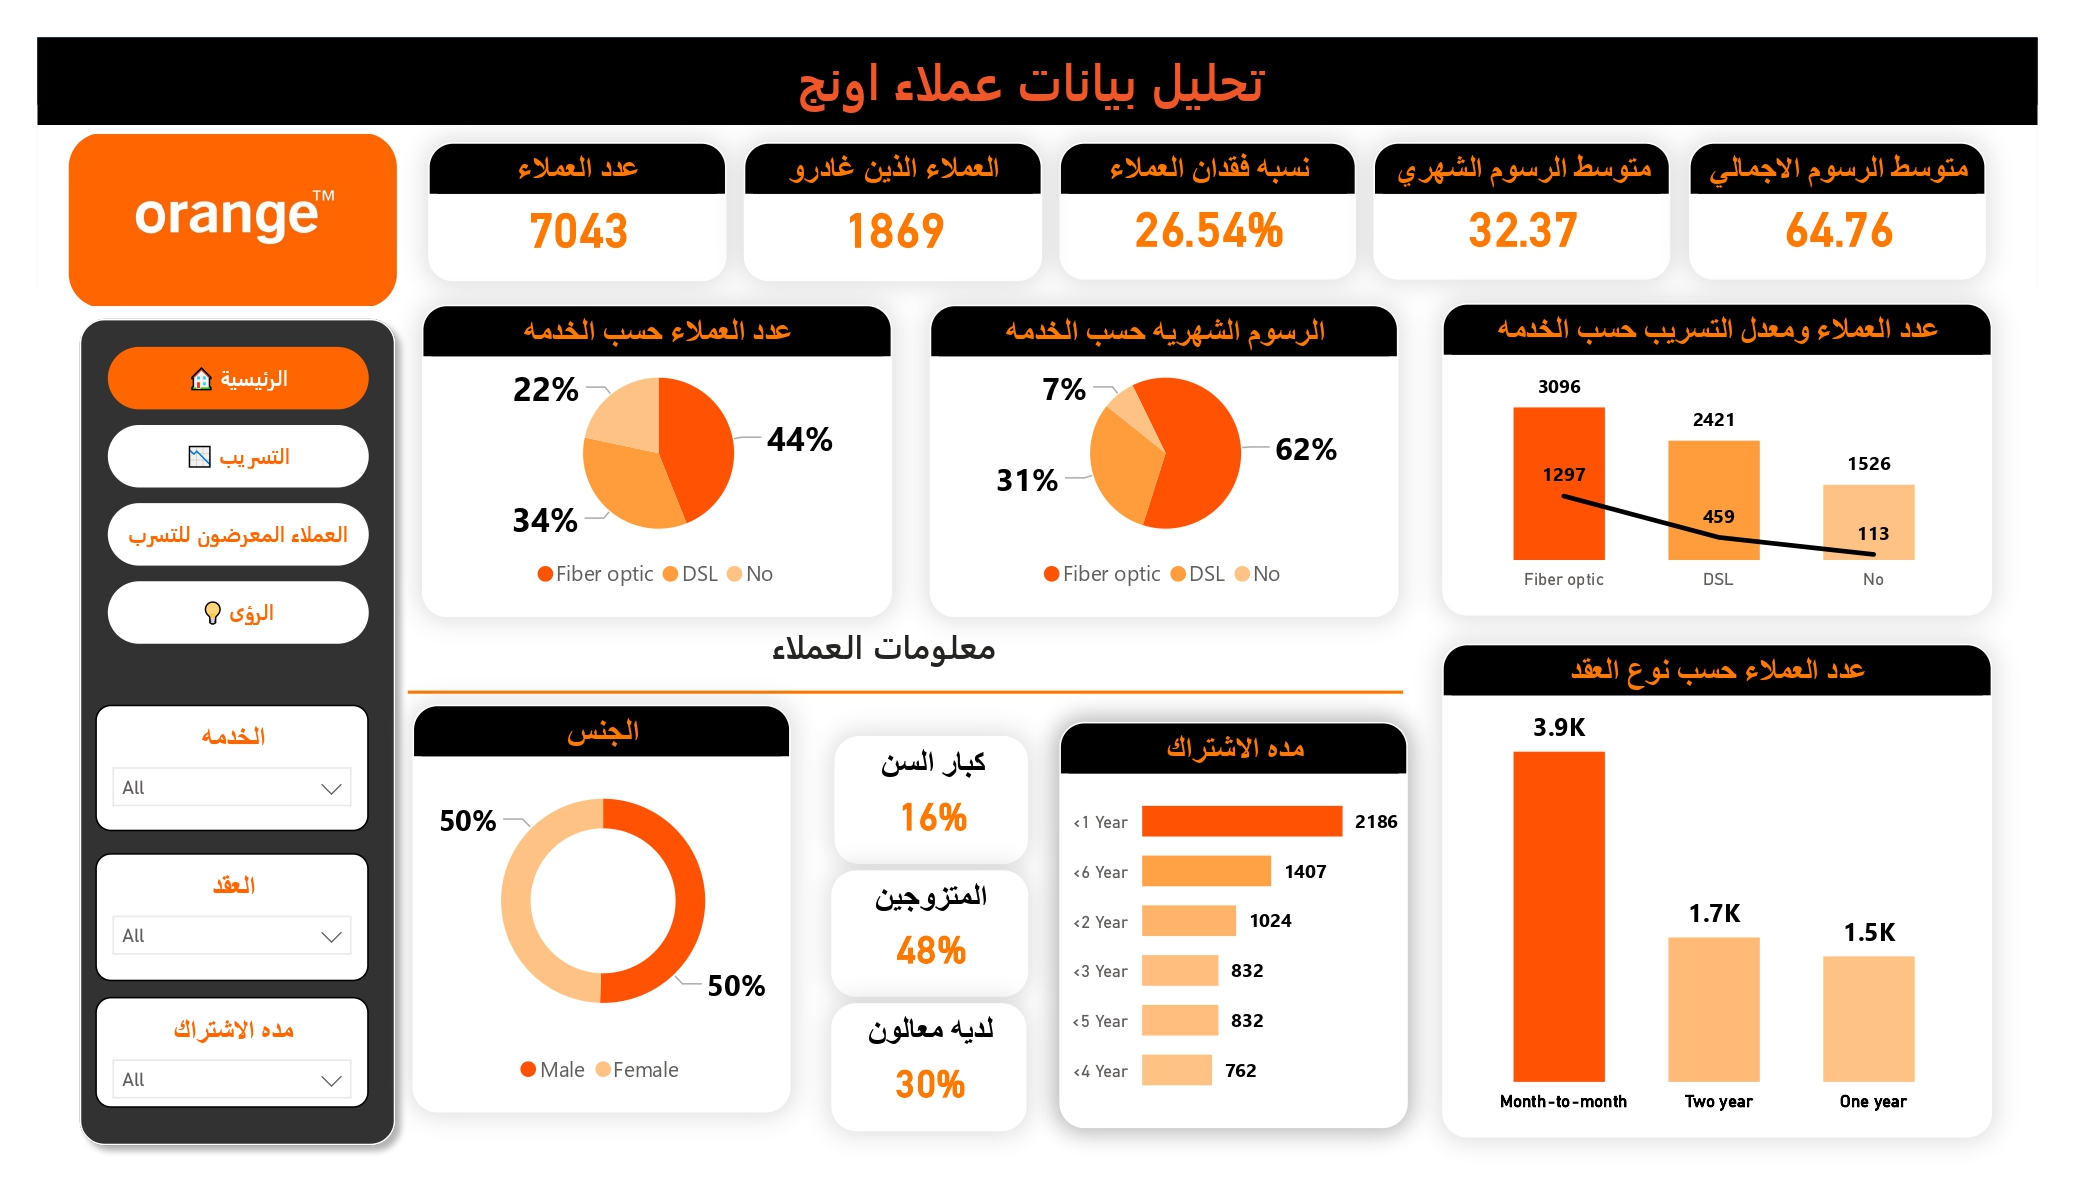

The page's visual inventory and layout, read from the dashboard file:
{"tool":"powerbi","page":{"name":"🏠 الرئيسية","canvas":[1280,720],"ordinal":0},"visuals":[{"type":"shape","box":[18.1,171.1,219.8,546.8],"z":0},{"type":"card","title":"عدد العملاء ","fields":{"Values":["Churn_dataset.total cust"]},"box":[250.4,66.6,190.6,89],"z":1000},{"type":"donutChart","title":"الجنس","fields":{"Category":["01 Churn-Dataset.gender"],"Y":["CountNonNull(01 Churn-Dataset.gender)"]},"box":[239.7,427.1,242.5,261.3],"z":1000,"group":"g1"},{"type":"shape","box":[236.5,352,637.2,133.6],"z":2000},{"type":"card","title":"نسبه فقدان العملاء","fields":{"Values":["Churn.% Churn Rate"]},"box":[654.1,67.1,190,88.1],"z":3000},{"type":"card","title":"كبار السن","fields":{"Values":["Churn_dataset.Rate Senior Citizen"]},"box":[509.2,447.1,124.6,81.7],"z":3000,"group":"g1"},{"type":"card","title":"متوسط الرسوم الشهري ","fields":{"Values":["Churn.Avg ternre"]},"box":[855.4,67.1,190,88.1],"z":4000},{"type":"card","title":"المتزوجين","fields":{"Values":["Churn_dataset.Rate Partner"]},"box":[507.7,532.6,125.5,81.2],"z":4000,"group":"g1"},{"type":"card","title":"العملاء الذين غادرو","fields":{"Values":["Churn_dataset.Total Churn"]},"box":[452.3,66.6,190.6,89],"z":5000},{"type":"card","title":"متوسط الرسوم الاجمالي ","fields":{"Values":["Churn_dataset.Avg_MonthlyCharges"]},"box":[1056.6,67.1,190,88.1],"z":6000},{"type":"card","title":"لديه معالون","fields":{"Values":["Churn_dataset.Rate Dependents"]},"box":[508.2,618.5,124.6,81.7],"z":6000,"group":"g1"},{"type":"slicer","title":"الخدمه","fields":{"Values":["Churn.InternetService"]},"box":[37,427,175,81],"z":7000},{"type":"clusteredBarChart","title":"مده الاشتراك","fields":{"Category":["Churn.Tenure(in years)"],"Y":["Churn_dataset.total cust"]},"box":[654.2,438.5,222.7,259.7],"z":7000,"group":"g1"},{"type":"slicer","title":"مده الاشتراك","fields":{"Values":["Churn.tenure"]},"box":[37,614,175,71],"z":8000},{"type":"slicer","title":"العقد","fields":{"Values":["Churn.Contract"]},"box":[37,522,175,82],"z":9000},{"type":"shape","box":[0,0,1280,43.1],"z":10000},{"type":"lineStackedColumnComboChart","title":"عدد العملاء ومعدل التسريب حسب الخدمه","fields":{"Y":["CountNonNull(Churn_dataset.customerID)"],"Y2":["Churn_dataset.Total Churn"],"Category":["Churn_dataset.InternetService"]},"box":[898.8,170.1,352.3,200.3],"z":11000},{"type":"columnChart","title":"عدد العملاء حسب نوع العقد","fields":{"Y":["CountNonNull(Churn_dataset.customerID)"],"Category":["Churn_dataset.Contract"]},"box":[898.8,388.2,352,315.8],"z":12000},{"type":"pieChart","title":"الرسوم الشهريه حسب الخدمه","fields":{"Y":["Sum(Churn.MonthlyCharges)"],"Category":["Churn_dataset.InternetService"]},"box":[570.6,170.7,300,200],"z":13000},{"type":"group","id":"g1","title":"Group 1","box":[239.7,427.1,637.2,271.3],"z":14000},{"type":"pieChart","title":"عدد العملاء حسب الخدمه","fields":{"Y":["CountNonNull(Churn_dataset.customerID)"],"Category":["Churn_dataset.InternetService"]},"box":[246.3,171.1,300.5,200.3],"z":15000},{"type":"textbox","box":[233.7,370.1,640,41.7],"z":16000},{"type":"image","box":[15.3,55.7,219.8,122.4],"z":17000},{"type":"textbox","box":[0,0,1280,55.7],"z":18000},{"type":"pageNavigator","box":[44.6,197.9,167.7,193],"z":20000}]}

Visuals, with their boxes on the page's 1280x720 design canvas (x1, y1, x2, y2). These are canvas units, not pixel positions in the 2075x1200 screenshot, which may show the page scaled, cropped or inside an application window:
shape: <box>18,171,238,718</box>
"عدد العملاء " card: <box>250,67,441,156</box>
"الجنس" donutChart: <box>240,427,482,688</box>
shape: <box>236,352,874,486</box>
"نسبه فقدان العملاء" card: <box>654,67,844,155</box>
"كبار السن" card: <box>509,447,634,529</box>
"متوسط الرسوم الشهري " card: <box>855,67,1045,155</box>
"المتزوجين" card: <box>508,533,633,614</box>
"العملاء الذين غادرو" card: <box>452,67,643,156</box>
"متوسط الرسوم الاجمالي " card: <box>1057,67,1247,155</box>
"لديه معالون" card: <box>508,618,633,700</box>
"الخدمه" slicer: <box>37,427,212,508</box>
"مده الاشتراك" clusteredBarChart: <box>654,438,877,698</box>
"مده الاشتراك" slicer: <box>37,614,212,685</box>
"العقد" slicer: <box>37,522,212,604</box>
shape: <box>0,0,1280,43</box>
"عدد العملاء ومعدل التسريب حسب الخدمه" lineStackedColumnComboChart: <box>899,170,1251,370</box>
"عدد العملاء حسب نوع العقد" columnChart: <box>899,388,1251,704</box>
"الرسوم الشهريه حسب الخدمه" pieChart: <box>571,171,871,371</box>
"Group 1" group: <box>240,427,877,698</box>
"عدد العملاء حسب الخدمه" pieChart: <box>246,171,547,371</box>
textbox: <box>234,370,874,412</box>
image: <box>15,56,235,178</box>
textbox: <box>0,0,1280,56</box>
pageNavigator: <box>45,198,212,391</box>
